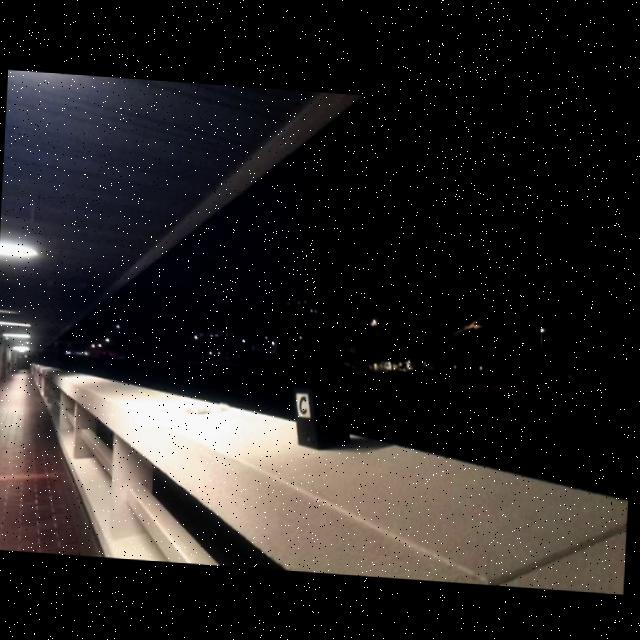C: (300, 394, 308, 412)
